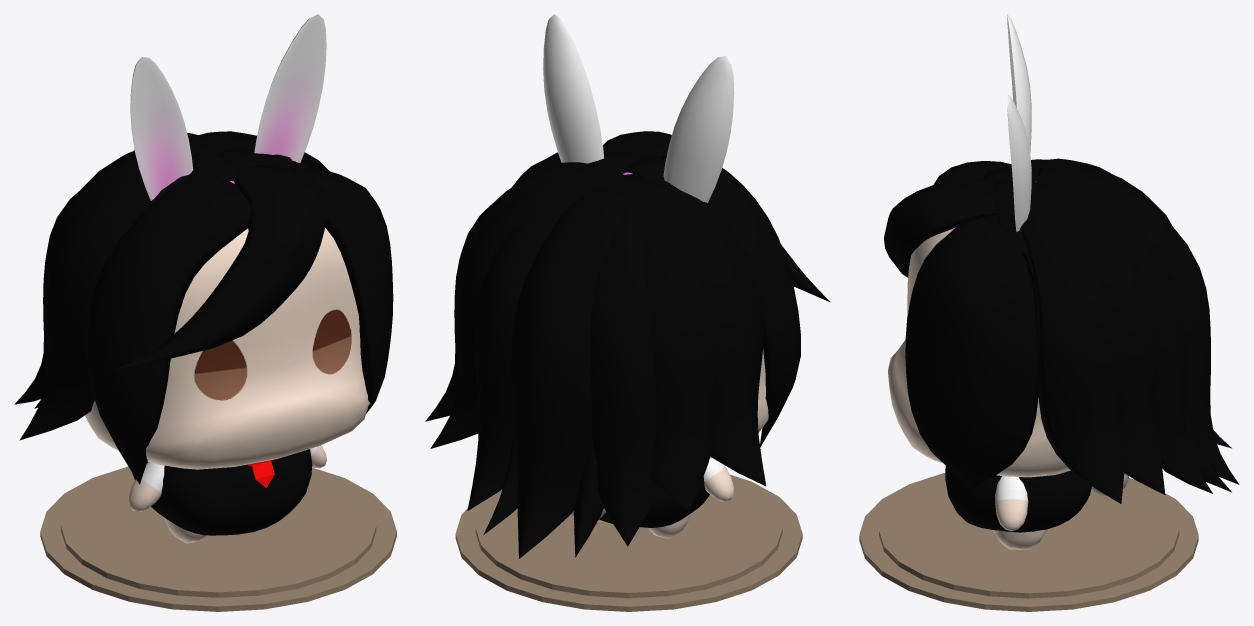
File: rabbit.fbx
3 renders of one model, left to right at view 1: azimuth 30°, elevation 25°; view 2: azimuth 150°, elevation 25°; view 3: azimuth 270°, elevation 25°, orthographic. The views are drawn at different scales.
Visible parts, largest first — view 1: base1, rabbit18, rabbit03, rabbit02, rabbit20, rabbit17, rabbit07_detached, rabbit24_detached, rabbit25_detached, rabbit22, rabbit07, rabbit11 (+2 smaller); view 2: base1, rabbit22, rabbit12, rabbit14, rabbit20, rabbit09, rabbit03, rabbit25, rabbit24, rabbit08, rabbit16, rabbit02 (+6 smaller); view 3: base1, rabbit17, rabbit16, rabbit22, rabbit12, rabbit09, rabbit02, rabbit18, rabbit07_detached, rabbit24, rabbit19, rabbit25 (+5 smaller).
Boxes of the visible parts, left/top/right/bottom form: base1: left=40, top=466, right=396, bottom=611; rabbit18: left=85, top=181, right=369, bottom=469; rabbit03: left=86, top=177, right=250, bottom=484; rabbit02: left=115, top=165, right=327, bottom=369; rabbit20: left=19, top=175, right=189, bottom=440; rabbit17: left=295, top=168, right=393, bottom=413; rabbit07_detached: left=132, top=449, right=312, bottom=521; rabbit24_detached: left=254, top=14, right=326, bottom=162; rabbit25_detached: left=131, top=57, right=192, bottom=200; rabbit22: left=14, top=131, right=256, bottom=404; rabbit07: left=151, top=494, right=304, bottom=535; rabbit11: left=128, top=462, right=164, bottom=511; base1: left=455, top=474, right=802, bottom=611; rabbit22: left=430, top=165, right=714, bottom=511; rabbit12: left=510, top=186, right=629, bottom=558; rabbit14: left=590, top=193, right=660, bottom=546; rabbit20: left=663, top=180, right=766, bottom=486; rabbit09: left=467, top=175, right=574, bottom=510; rabbit03: left=664, top=158, right=800, bottom=446; rabbit25: left=663, top=56, right=734, bottom=202; rabbit24: left=543, top=14, right=603, bottom=163; rabbit08: left=483, top=434, right=603, bottom=557; rabbit16: left=425, top=162, right=587, bottom=421; rabbit02: left=603, top=131, right=830, bottom=302; base1: left=859, top=473, right=1198, bottom=611; rabbit17: left=905, top=215, right=1038, bottom=487; rabbit16: left=1014, top=201, right=1124, bottom=503; rabbit22: left=1031, top=158, right=1165, bottom=494; rabbit12: left=1070, top=168, right=1239, bottom=484; rabbit09: left=1064, top=196, right=1212, bottom=493; rabbit02: left=884, top=178, right=1002, bottom=277; rabbit18: left=888, top=181, right=1070, bottom=477; rabbit07_detached: left=945, top=466, right=1091, bottom=521; rabbit24: left=1007, top=95, right=1031, bottom=231; rabbit19: left=995, top=476, right=1028, bottom=531; rabbit25: left=1007, top=14, right=1031, bottom=152.
Bounding box in the file's own units: 6.44 × 9.46 × 6.72.
Materials: 7 (1 with a texture image).
